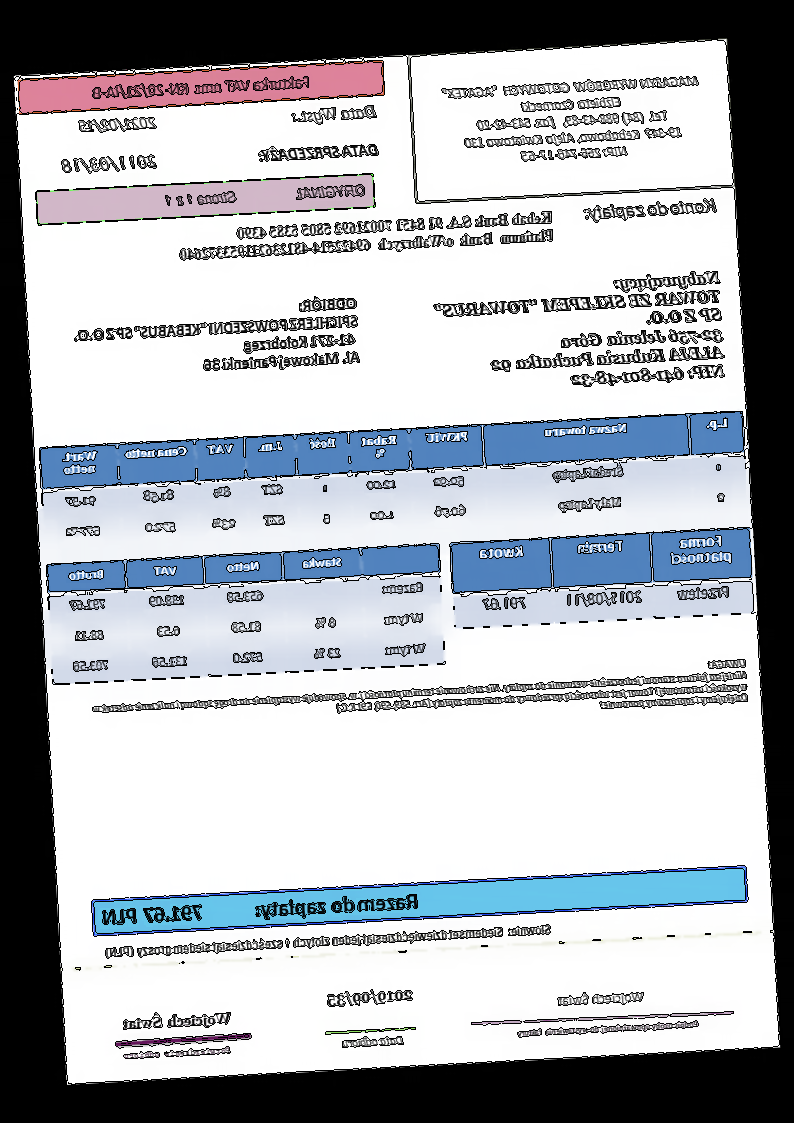Table: (38, 407, 751, 553), (45, 543, 448, 687), (449, 525, 756, 632)
TextBox: (89, 655, 751, 738), (432, 268, 728, 398), (66, 293, 363, 381), (437, 73, 706, 168), (177, 206, 558, 266), (102, 919, 556, 961), (100, 887, 424, 930), (88, 71, 316, 102), (159, 180, 368, 210), (513, 1017, 702, 1040), (581, 194, 722, 222), (258, 138, 382, 167), (118, 1007, 239, 1034), (58, 149, 160, 176), (287, 101, 380, 126), (556, 985, 649, 1010), (323, 985, 418, 1009), (77, 110, 157, 138), (122, 1043, 235, 1062), (340, 1030, 406, 1051)
